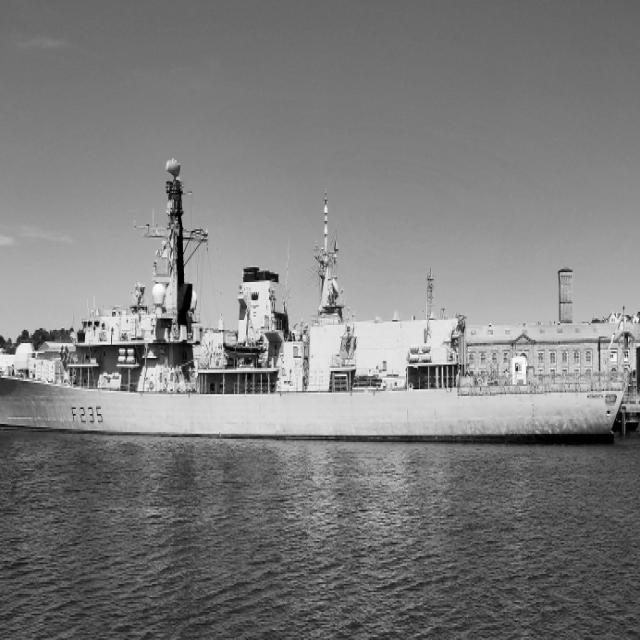Fragata: (1, 150, 627, 437)
